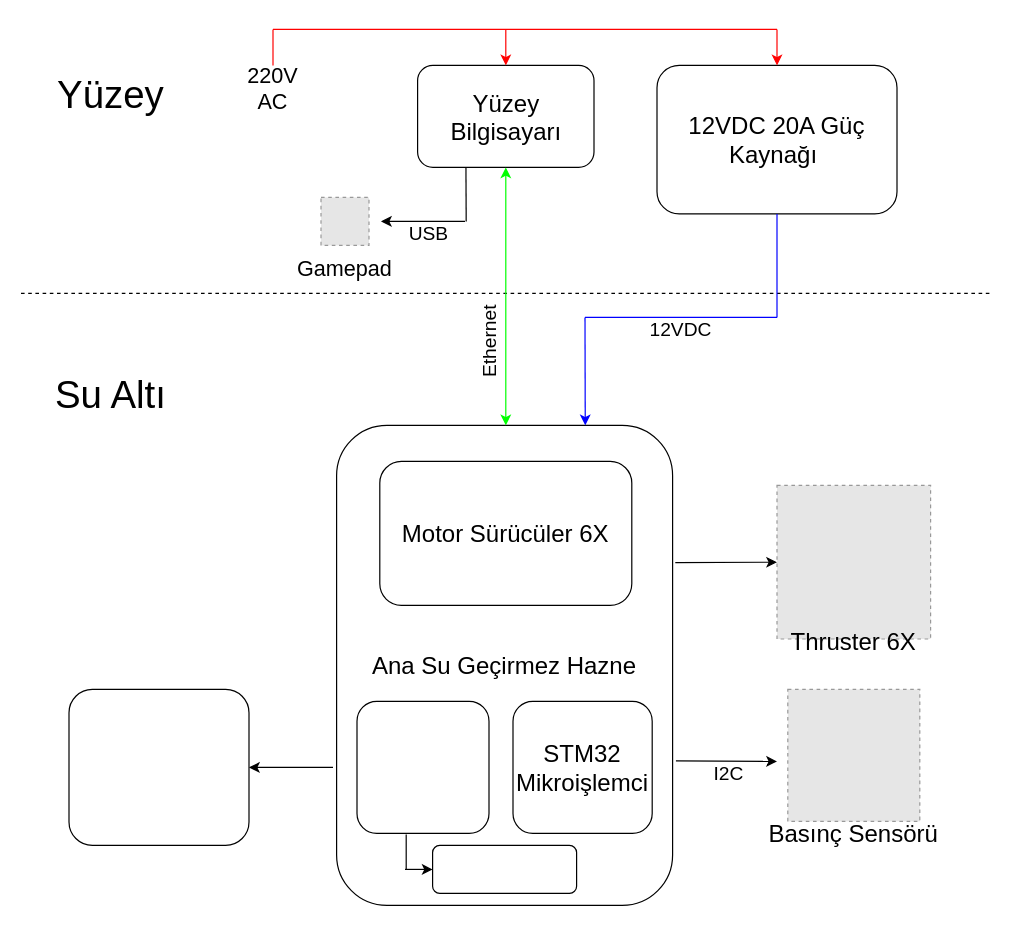
Image size: 1015x926. Some labels were removed from this diagram. Grey dashed boxes stand in for pictures. Here are the shapes that lost their labels. From the top down, the box of each, then its label:
(68, 688, 249, 845): Görev-Spesifik Eyleyiciler
(356, 700, 489, 833): Raspberry Pi
(431, 844, 577, 893): USB Kamera
